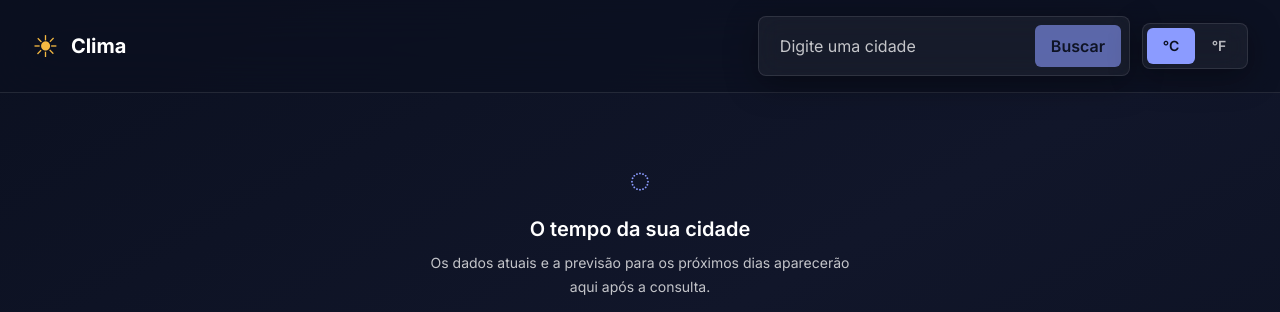
Test: App › shows empty when geocoding returns no results
Step 1. Type "Londres" into the search field named "Buscar cidade" → (897, 46), box [767,25,1027,67]
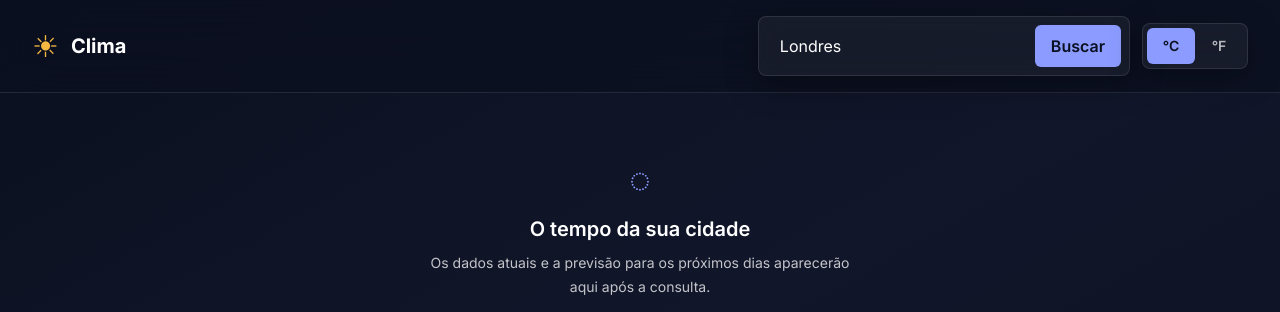
Step 2. Submit the form, box [758,16,1130,76]
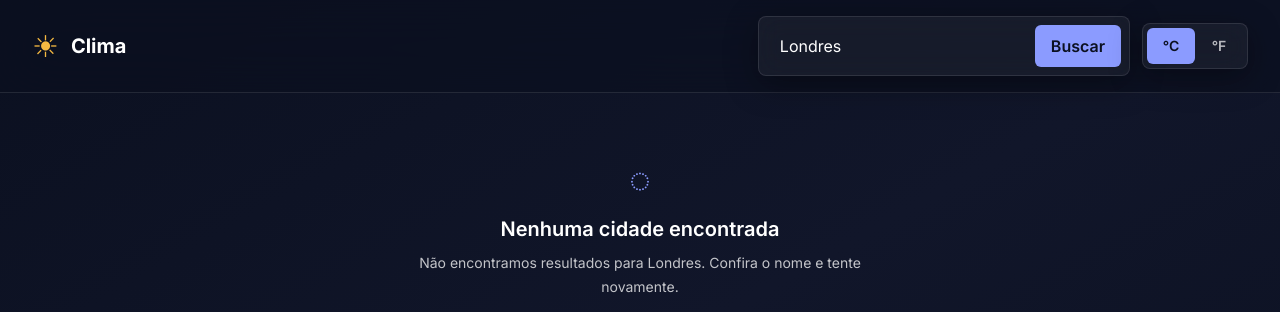
Now the message shows "Nenhuma cidade encontrada", box [501,217,780,241]
